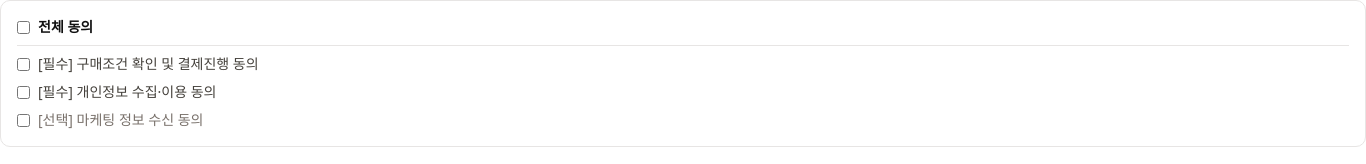
Test case: TermsAgreement component › 전체 동의 클릭 시 모든 항목이 체크된다
Click the checkbox labelled "전체 동의". click: (24, 27)
box: [17,20,30,34]
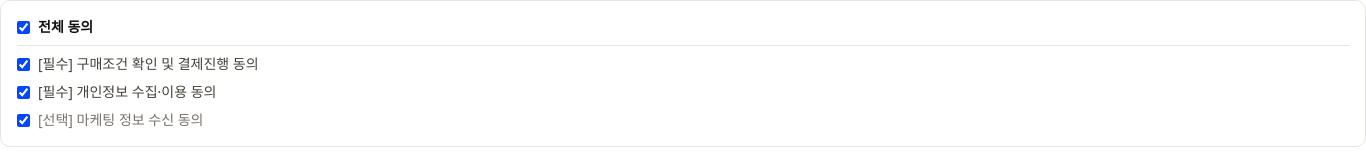
Result: the checkbox labelled "전체 동의" is checked at [17,20,30,34]
Result: the checkbox labelled "[필수] 구매조건 확인 및 결제진행 동의" is checked at [17,58,30,70]
Result: the checkbox labelled "[필수] 개인정보 수집·이용 동의" is checked at [17,86,30,98]
